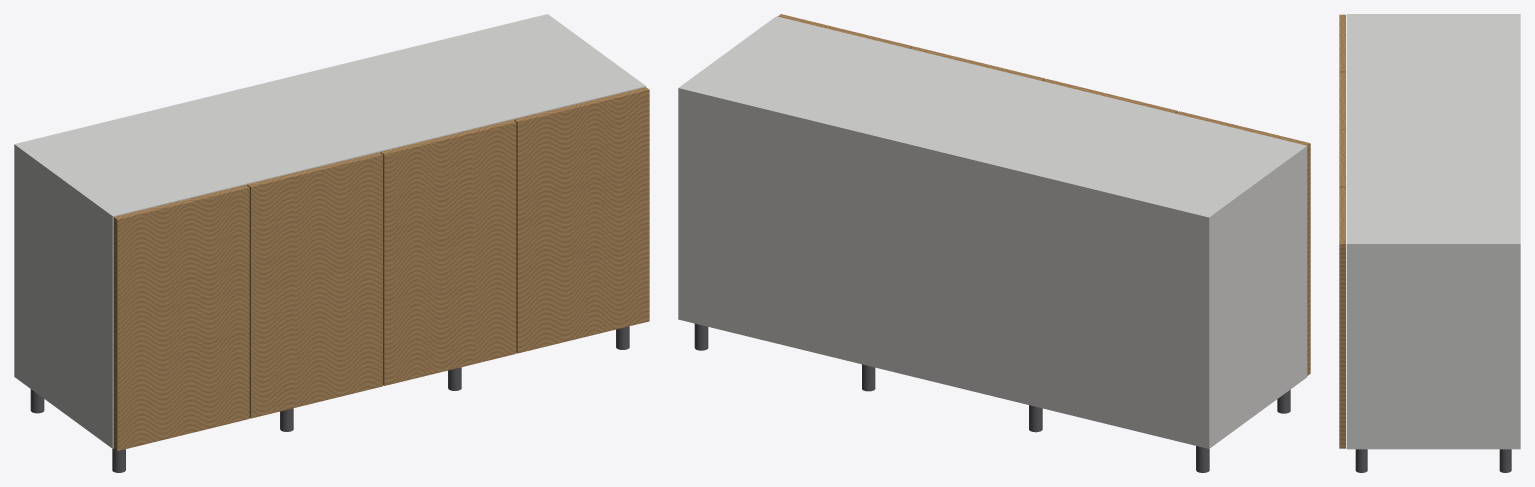
Rendered from w1800_inset_pair_closed.glb.
The picture shows the model from 3 angles, left to right: view 1: azimuth 30°, elevation 25°; view 2: azimuth 150°, elevation 25°; view 3: azimuth 270°, elevation 25°; orthographic projection. The views are drawn at different scales.
Visible parts, largest first — view 1: oak, white, leg; view 2: white, oak, leg; view 3: white, oak, leg.
Boxes of the visible parts, box(x1,y1,x2,y2) form: oak: box(113, 87, 649, 450); white: box(14, 14, 646, 448); leg: box(30, 326, 629, 472); white: box(678, 16, 1307, 448); oak: box(778, 14, 1310, 375); leg: box(694, 323, 1290, 472); white: box(1346, 14, 1520, 449); oak: box(1339, 14, 1345, 448); leg: box(1355, 449, 1511, 472).
Bounding box in the file's own units: 1.8 × 0.85 × 0.6.
Materials: 3 (1 with a texture image).
